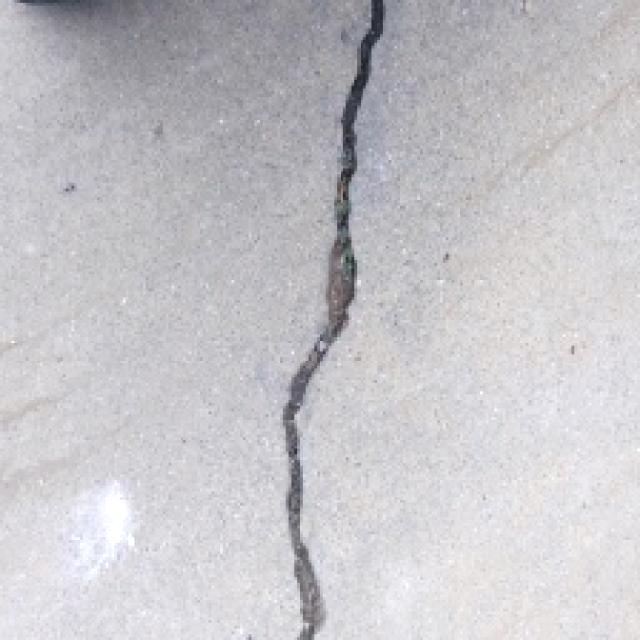crack: (258, 2, 392, 640)
